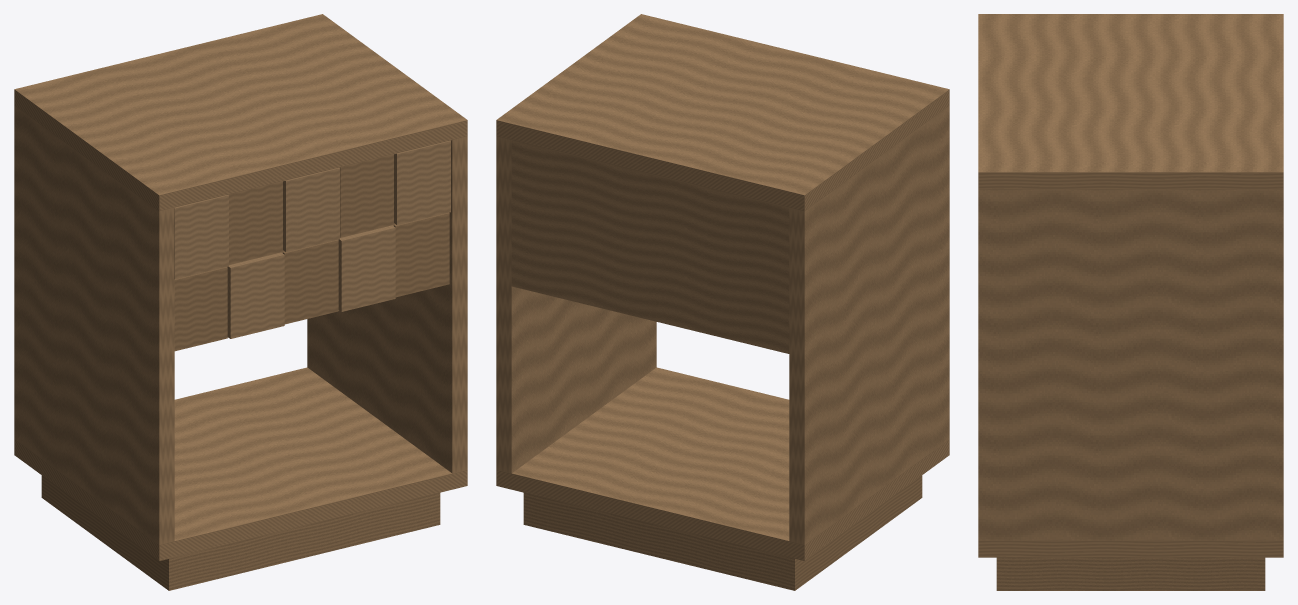
The picture shows the model from 3 angles, left to right: view 1: azimuth 30°, elevation 25°; view 2: azimuth 150°, elevation 25°; view 3: azimuth 270°, elevation 25°; orthographic projection. The views are drawn at different scales.
Parts seen in each view (by area): view 1: 3 left_side_panel, 5 top_panel, 2 bottom_shelf, 4 right_side_panel, 1 plinth_base, 16 drawer_tile_bottom_4, 14 drawer_tile_bottom_2, 10 drawer_tile_top_3, 12 drawer_tile_top_5, 8 drawer_tile_top_1, 17 drawer_tile_bottom_5, 15 drawer_tile_bottom_3 (+3 smaller); view 2: 3 left_side_panel, 5 top_panel, 6 drawer_back_panel, 2 bottom_shelf, 4 right_side_panel, 1 plinth_base; view 3: 4 right_side_panel, 5 top_panel, 1 plinth_base, 2 bottom_shelf.
Part boxes in pixels (box(x1,y1,x2,y2)): 3 left_side_panel: box(14, 106, 174, 544); 5 top_panel: box(14, 14, 467, 211); 2 bottom_shelf: box(14, 367, 467, 560); 4 right_side_panel: box(307, 136, 467, 473); 1 plinth_base: box(41, 475, 440, 590); 16 drawer_tile_bottom_4: box(338, 225, 395, 311); 14 drawer_tile_bottom_2: box(227, 252, 284, 338); 10 drawer_tile_top_3: box(283, 167, 339, 252); 12 drawer_tile_top_5: box(394, 140, 450, 225); 8 drawer_tile_top_1: box(174, 194, 228, 279); 17 drawer_tile_bottom_5: box(394, 212, 449, 297); 15 drawer_tile_bottom_3: box(283, 240, 338, 324); 3 left_side_panel: box(789, 106, 949, 544); 5 top_panel: box(496, 14, 949, 211); 6 drawer_back_panel: box(511, 140, 789, 353); 2 bottom_shelf: box(496, 367, 949, 560); 4 right_side_panel: box(496, 136, 656, 473); 1 plinth_base: box(523, 475, 922, 590); 4 right_side_panel: box(978, 189, 1283, 540); 5 top_panel: box(978, 14, 1283, 189); 1 plinth_base: box(996, 557, 1265, 590); 2 bottom_shelf: box(978, 540, 1283, 557).
Size of the model in its own units: 0.794 by 1 by 0.646.
3 materials, 3 textured.
